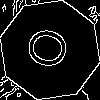O: (25, 25, 79, 74)
